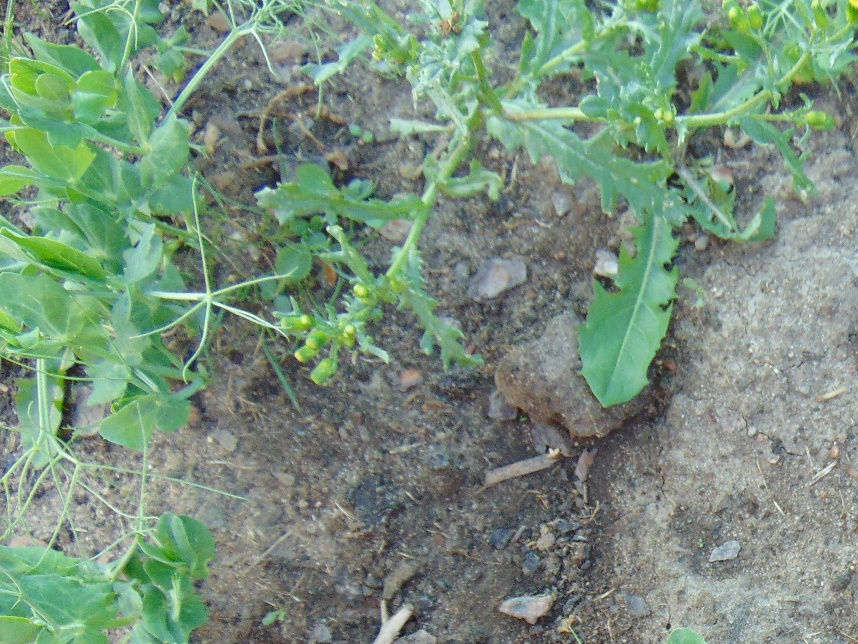crop: (1, 1, 274, 557), (1, 452, 212, 644)
weed: (273, 1, 858, 413)
